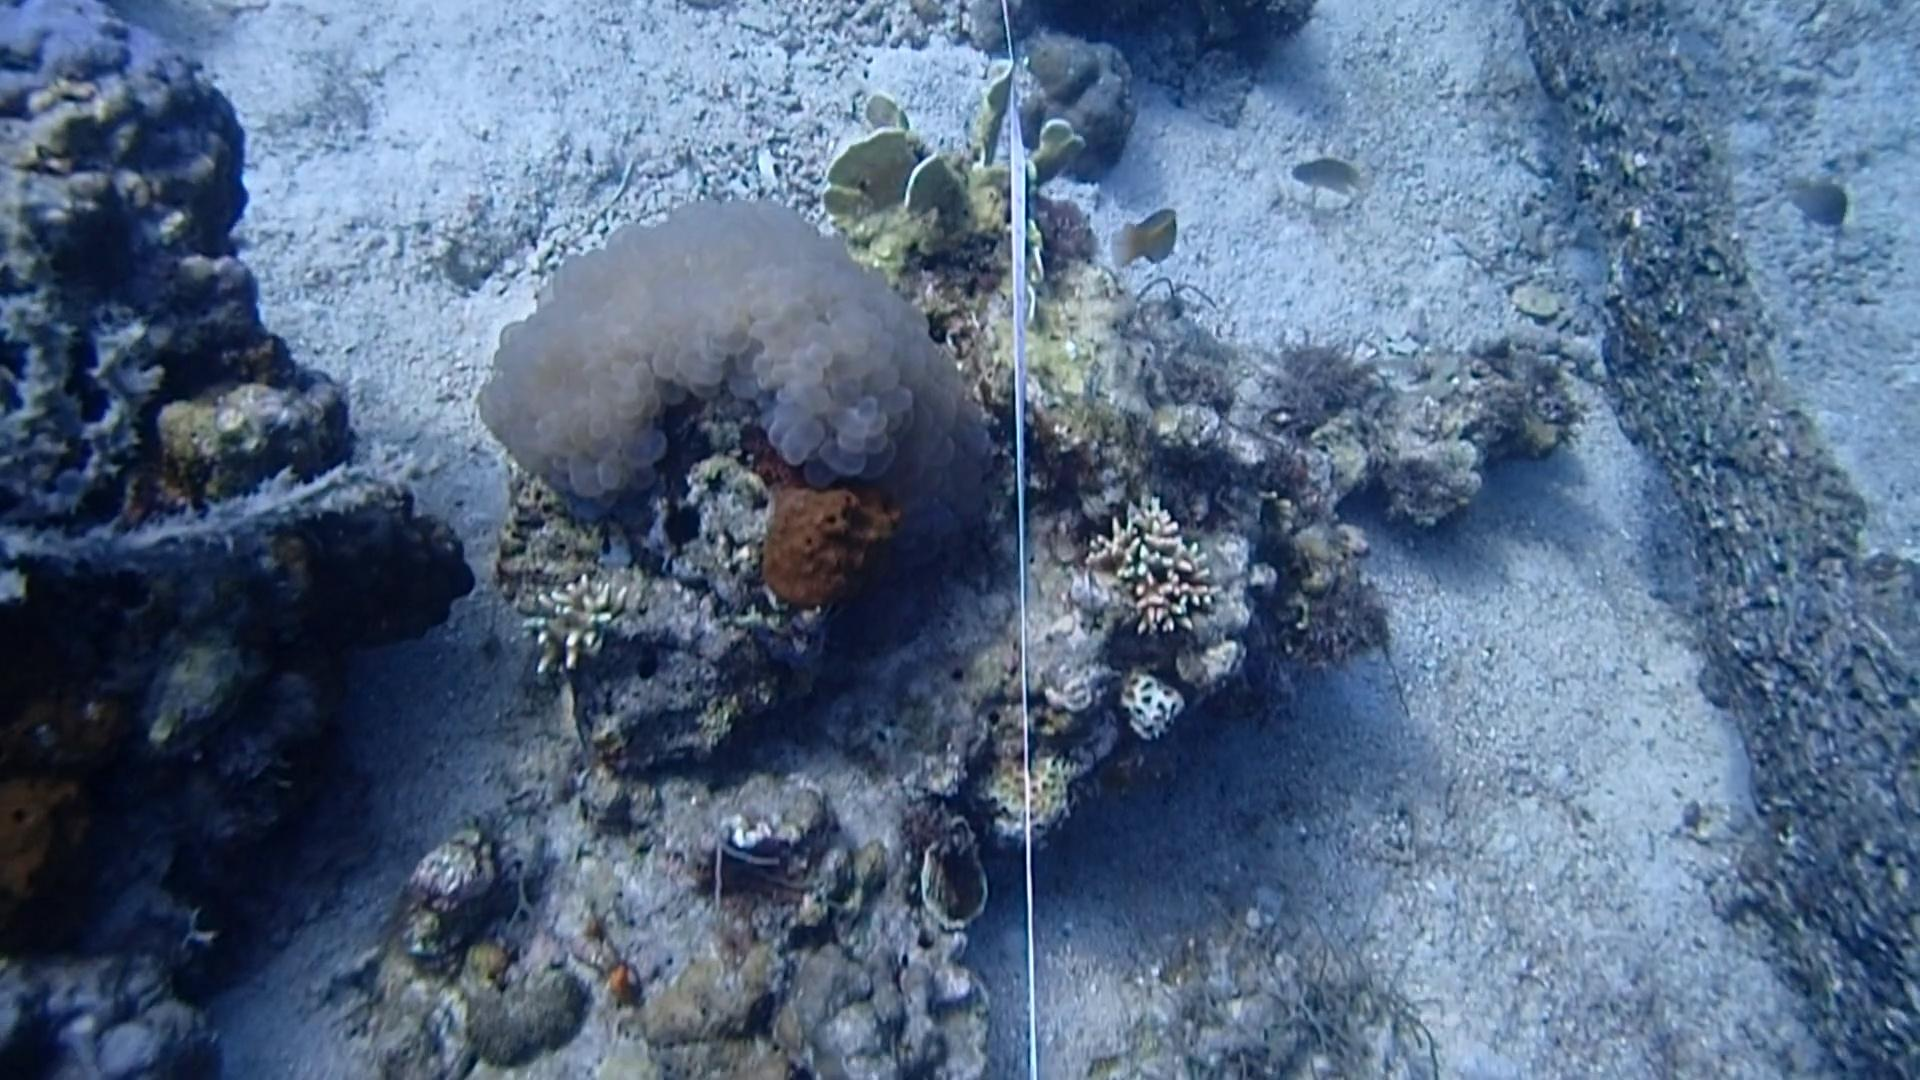Light Fish: (1771, 164, 1855, 227), (1288, 142, 1373, 206)
Yellow-Blue Fish: (1095, 204, 1183, 278)
